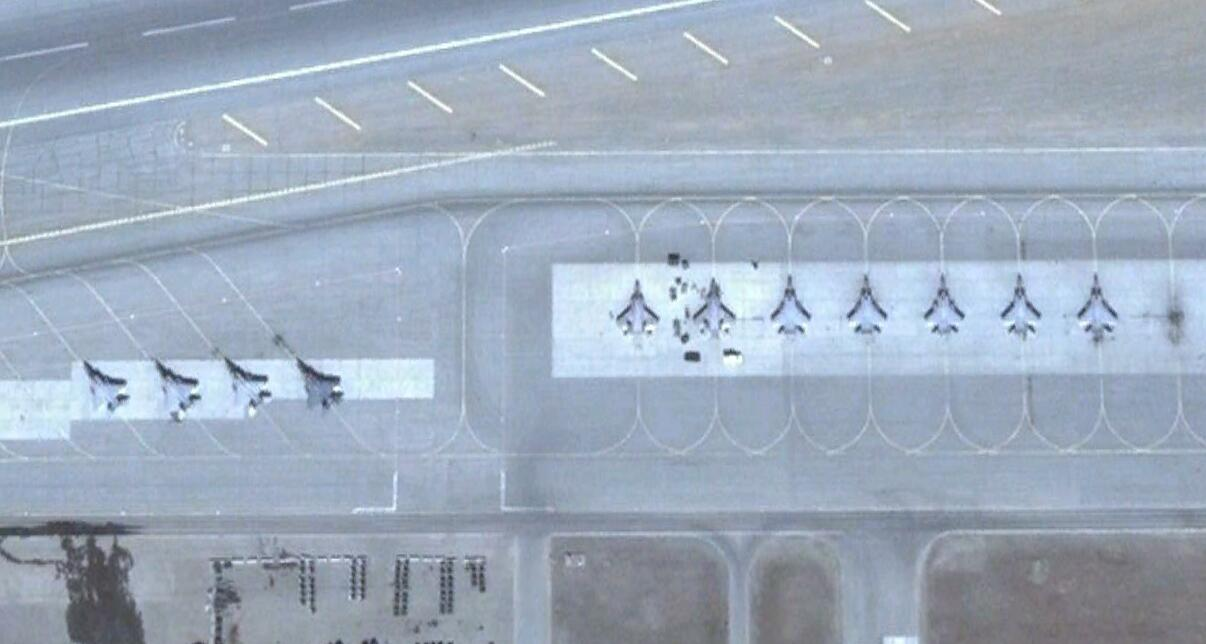A13: (151, 355, 203, 421), (220, 355, 274, 414), (1076, 274, 1121, 344), (293, 356, 346, 415), (80, 356, 130, 414), (768, 274, 814, 337), (1002, 271, 1043, 340), (923, 273, 966, 338), (847, 272, 887, 338)
A15: (614, 278, 660, 338), (693, 276, 735, 338)
